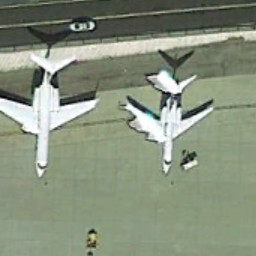Airplane: (1, 49, 105, 193), (119, 61, 222, 184)
